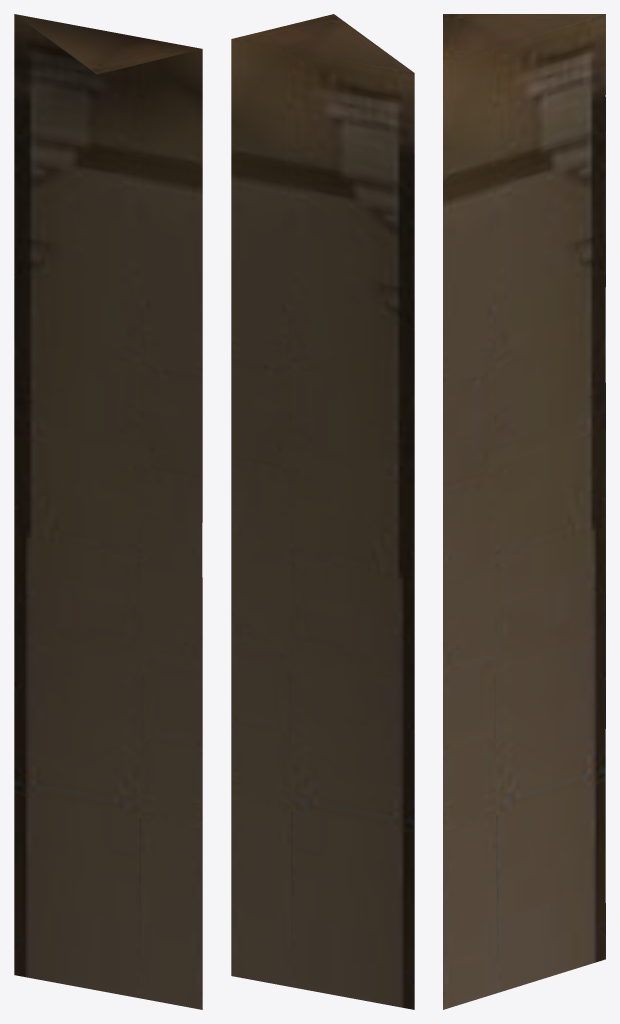
3 views of the same model, side by side, from view 1: azimuth 30°, elevation 25°; view 2: azimuth 210°, elevation 25°; view 3: azimuth 270°, elevation 25° (orthographic). The views are drawn at different scales.
Bounding box in the file's own units: 0.3137 × 2.73 × 0.4267.
Materials: 1 (1 with a texture image).
